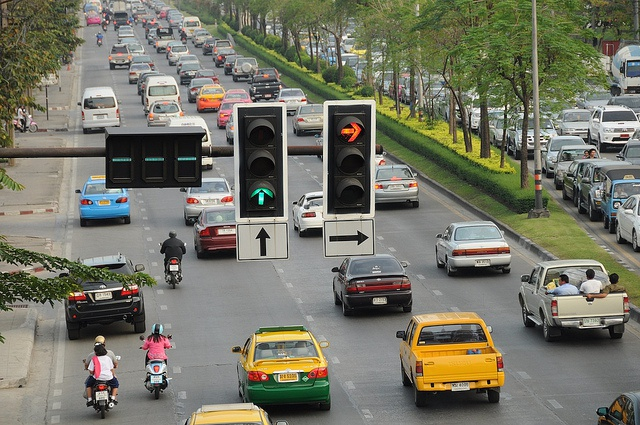non-vehicle: (158, 241, 186, 288), (88, 379, 114, 418), (146, 358, 167, 401), (97, 38, 102, 47)
